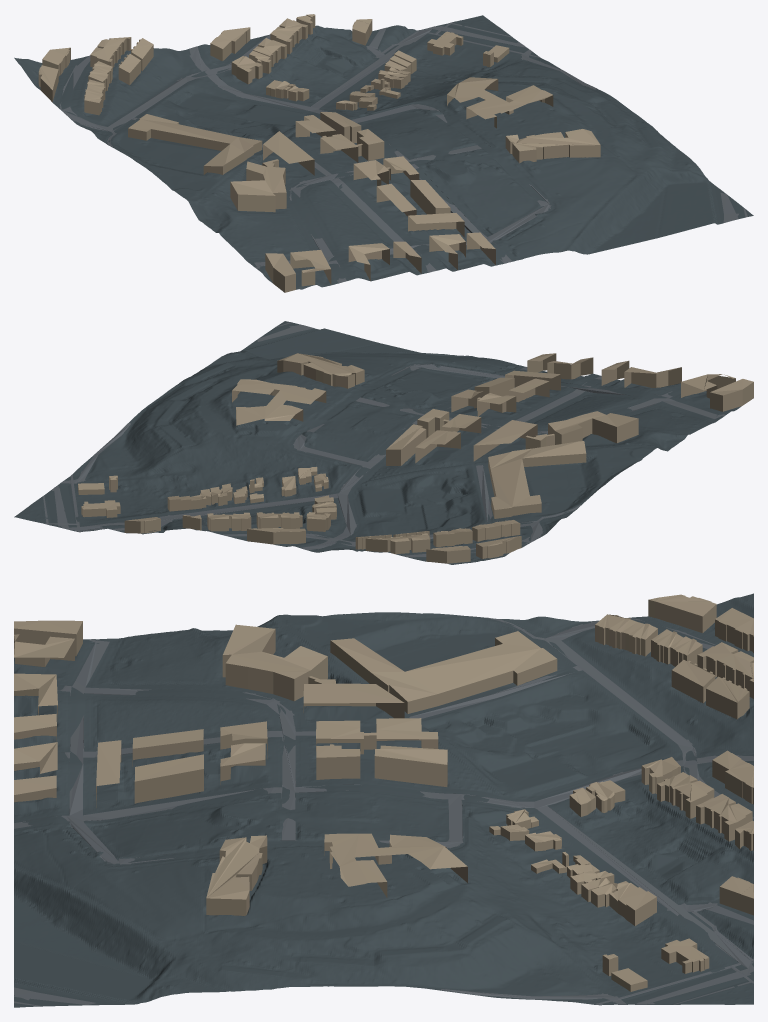
The model's file is epsg26910-1444-10876.lod0.glb.
The picture shows the model from 3 angles, top to bottom: view 1: azimuth 30°, elevation 25°; view 2: azimuth 150°, elevation 25°; view 3: azimuth 270°, elevation 25°; orthographic projection. The views are drawn at different scales.
Visible parts, largest first — view 1: epsg26910-1444-10876-lod0; view 2: epsg26910-1444-10876-lod0; view 3: epsg26910-1444-10876-lod0.
Boxes of the visible parts, left/top/right/bottom form: epsg26910-1444-10876-lod0: left=14, top=14, right=753, bottom=292; epsg26910-1444-10876-lod0: left=14, top=321, right=753, bottom=564; epsg26910-1444-10876-lod0: left=14, top=593, right=753, bottom=1007.
Size of the model in its own units: 384 by 58.23 by 384.
